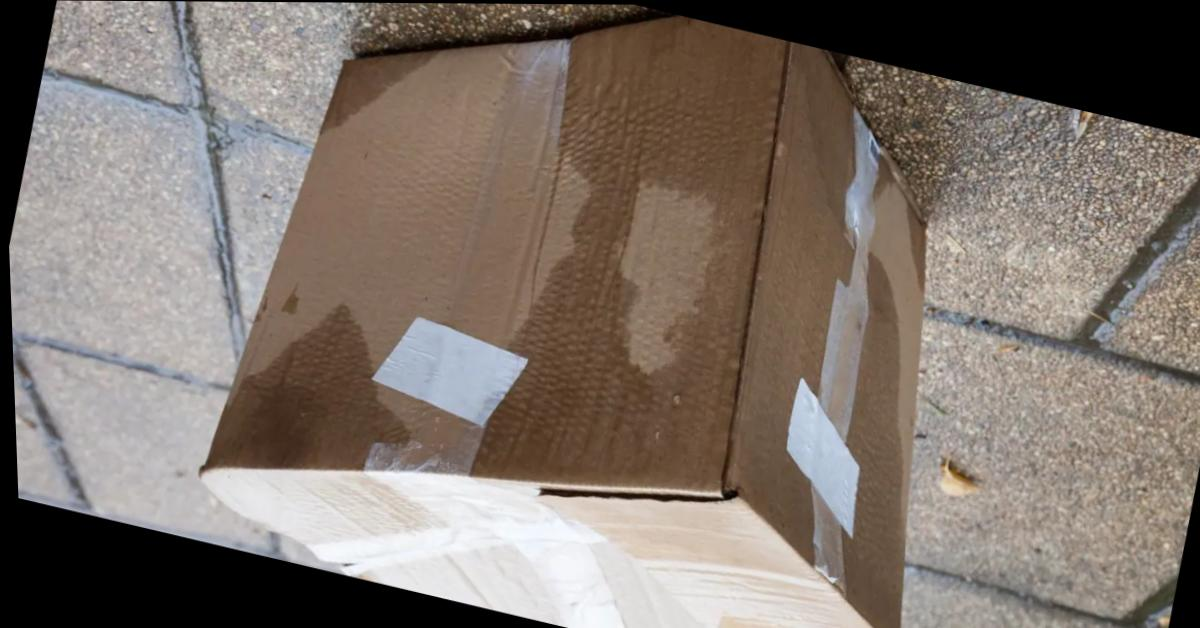cardboard: (204, 19, 923, 627)
